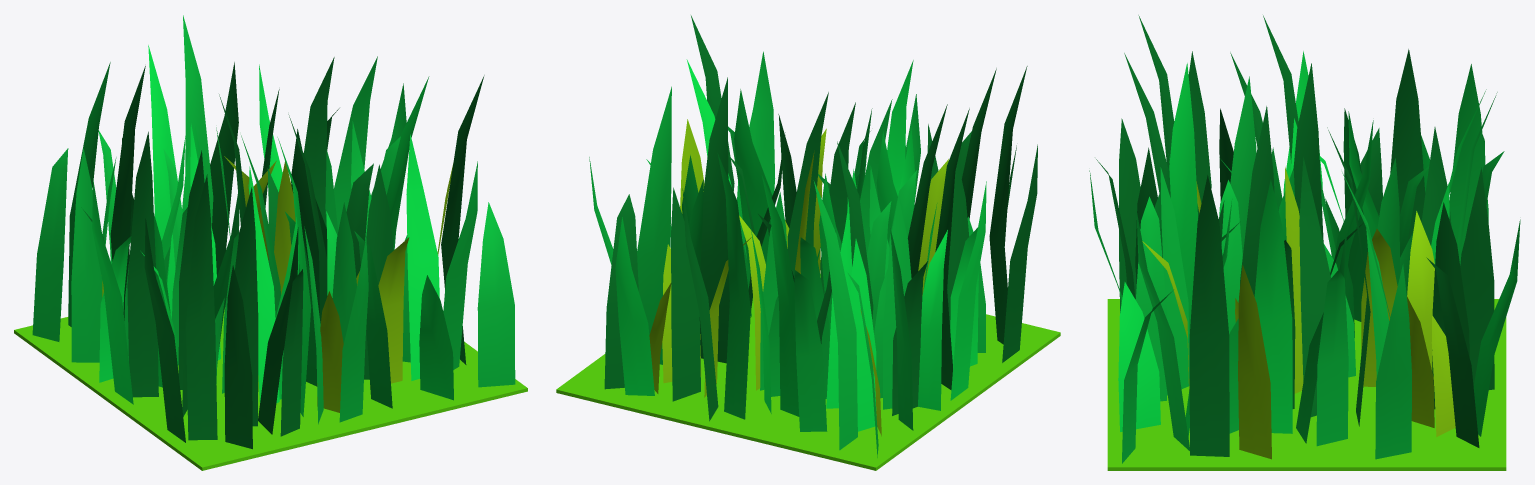
Rendered from grass path.FBX.
The picture shows the model from 3 angles, left to right: view 1: azimuth 30°, elevation 25°; view 2: azimuth 150°, elevation 25°; view 3: azimuth 270°, elevation 25°; orthographic projection. The views are drawn at different scales.
Visible parts, largest first — view 1: grass; view 2: grass; view 3: grass.
Boxes of the visible parts, x1,y1,x2,y2 form: grass: [14, 15, 527, 470]; grass: [556, 15, 1060, 470]; grass: [1089, 15, 1520, 470].
Bounding box in the file's own units: 43.21 × 32.81 × 42.58.
